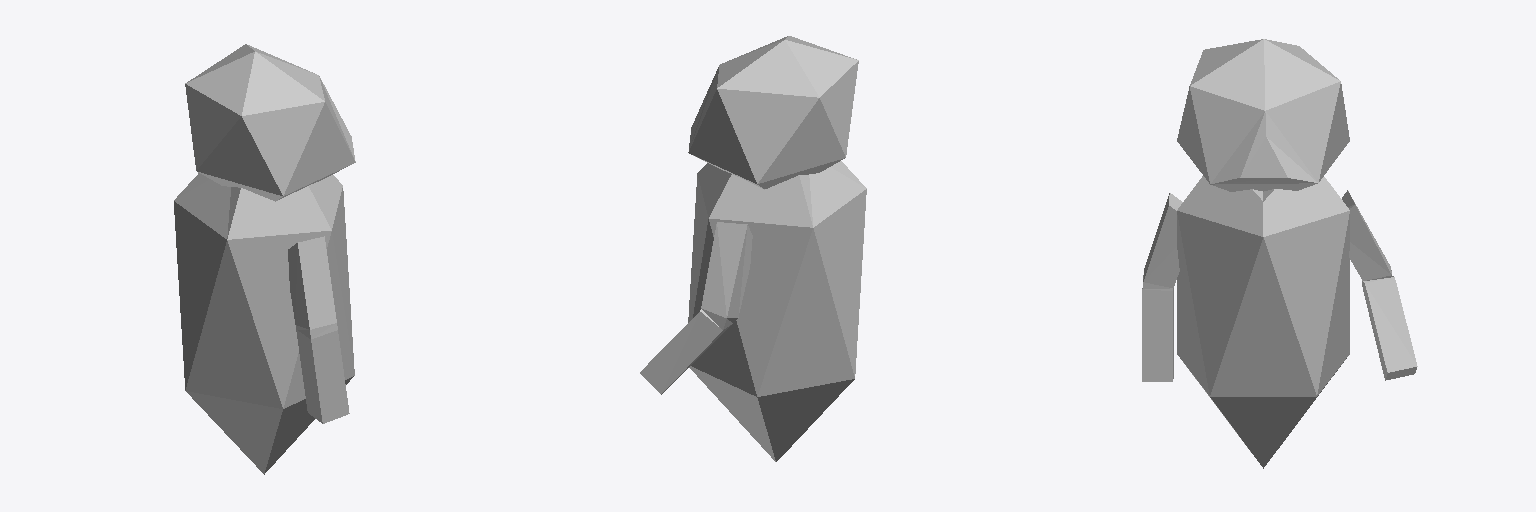
File: testcharacter.obj
3 views of the same model, side by side, from view 1: azimuth 30°, elevation 25°; view 2: azimuth 150°, elevation 25°; view 3: azimuth 270°, elevation 25° (orthographic).
Visible parts, largest first — view 1: Icosphere; view 2: Icosphere; view 3: Icosphere.
Boxes of the visible parts, x1,y1,x2,y2 form: Icosphere: [174, 44, 355, 474]; Icosphere: [640, 36, 866, 461]; Icosphere: [1142, 39, 1417, 468].
Bounding box in the file's own units: 1.79 × 4.61 × 2.7.